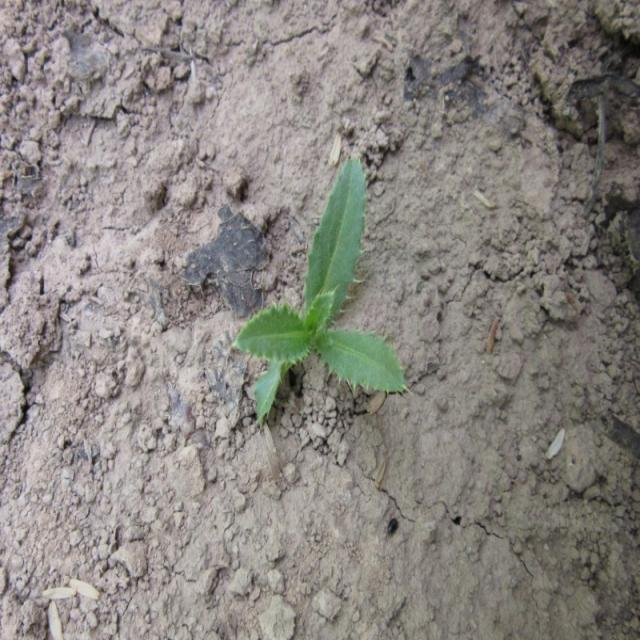cs: (232, 150, 414, 435)
